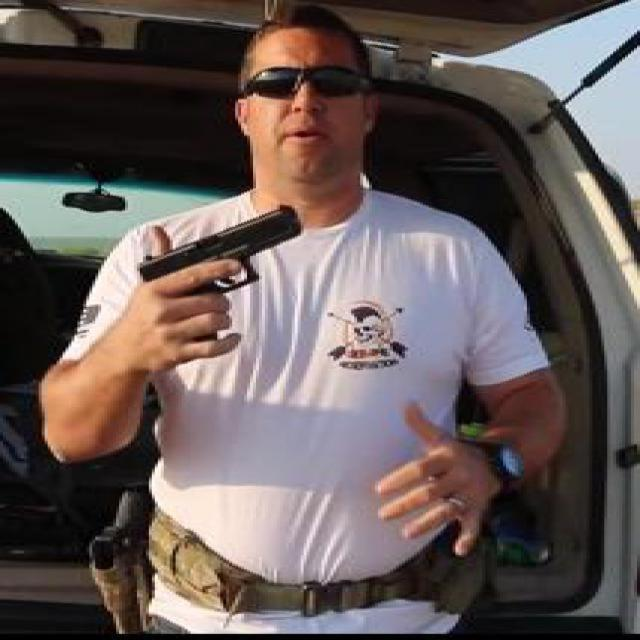weapon: (138, 204, 302, 364)
